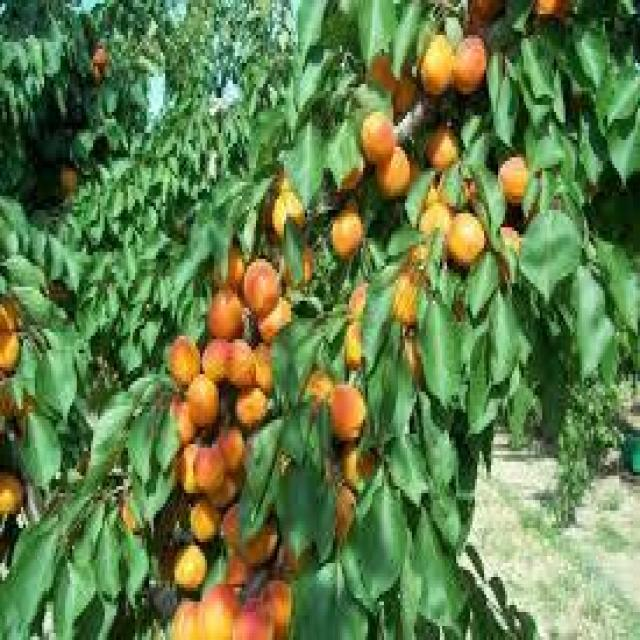kayisi: (442, 203, 490, 264), (238, 261, 283, 322), (325, 381, 368, 444), (415, 31, 453, 99), (450, 34, 491, 96), (167, 538, 209, 594), (374, 136, 413, 196), (256, 577, 293, 640), (206, 283, 246, 341), (252, 290, 296, 342), (327, 203, 367, 260), (497, 150, 537, 205), (185, 375, 221, 435), (360, 110, 397, 167), (162, 382, 199, 439), (422, 124, 466, 170), (230, 593, 273, 640), (203, 589, 241, 640), (167, 331, 202, 384), (342, 445, 378, 496), (245, 343, 283, 391), (165, 591, 202, 640), (194, 438, 224, 497), (231, 390, 272, 430), (174, 441, 203, 496), (226, 340, 258, 389), (188, 493, 218, 545), (218, 424, 249, 472), (199, 340, 231, 383), (207, 466, 240, 506), (276, 188, 304, 234), (0, 472, 26, 520), (0, 326, 19, 378), (0, 290, 19, 340), (352, 284, 377, 320)
yaprak: (404, 500, 467, 640), (0, 517, 68, 640), (355, 480, 411, 609), (516, 197, 583, 304), (289, 558, 368, 640), (414, 293, 464, 408), (361, 321, 403, 445), (274, 448, 324, 545), (78, 395, 130, 485), (460, 331, 504, 437), (571, 283, 614, 387), (490, 284, 528, 394), (16, 408, 68, 487), (37, 341, 82, 429), (564, 16, 610, 98), (290, 51, 338, 127), (593, 58, 640, 135), (285, 126, 328, 210), (483, 48, 519, 147), (513, 35, 563, 105), (56, 547, 96, 631), (458, 251, 503, 325), (351, 0, 398, 70), (325, 110, 363, 194), (384, 436, 428, 507), (603, 104, 640, 188), (118, 528, 150, 618), (94, 518, 126, 606), (8, 277, 59, 330), (292, 0, 332, 67), (131, 407, 159, 497), (0, 191, 31, 255), (0, 250, 45, 292), (124, 370, 168, 408)
